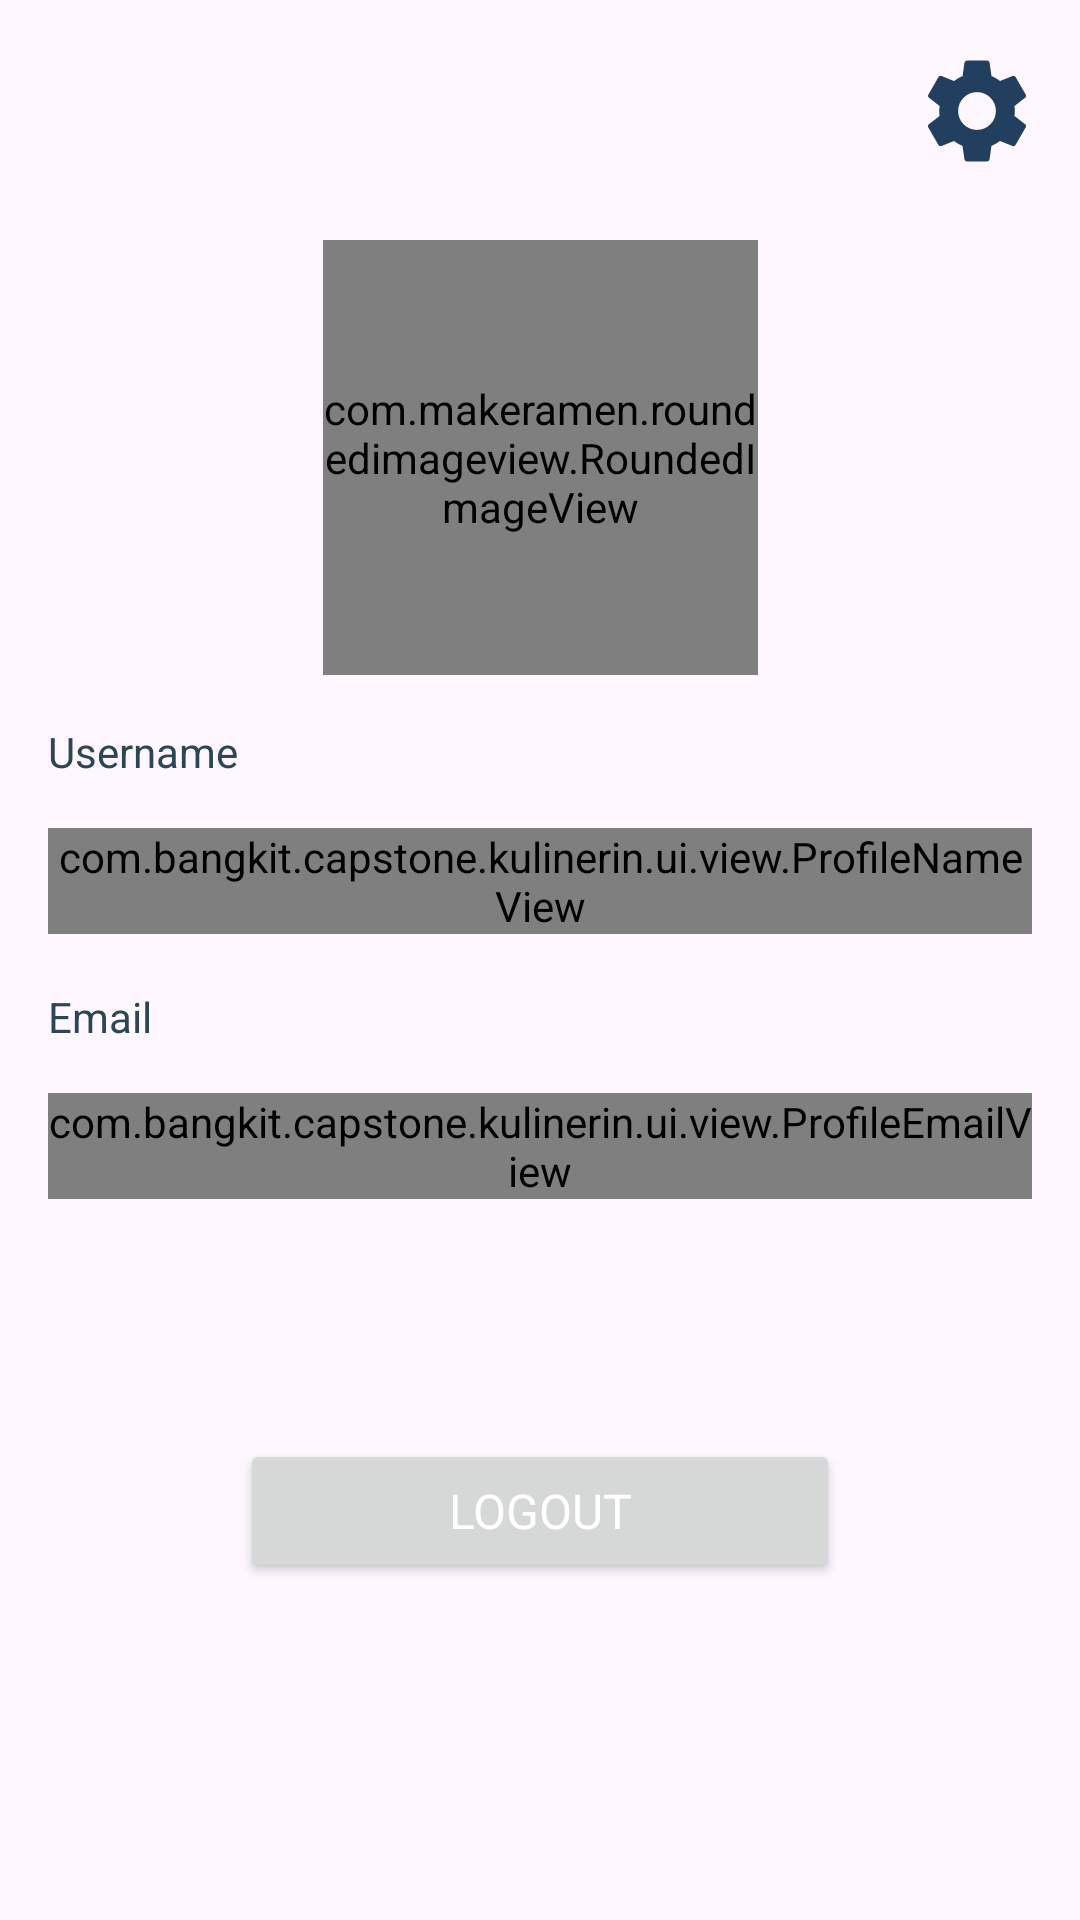

Where to tap for icons on this 1080x1920 app screen, as [x,y]:
settings: [977,111]
